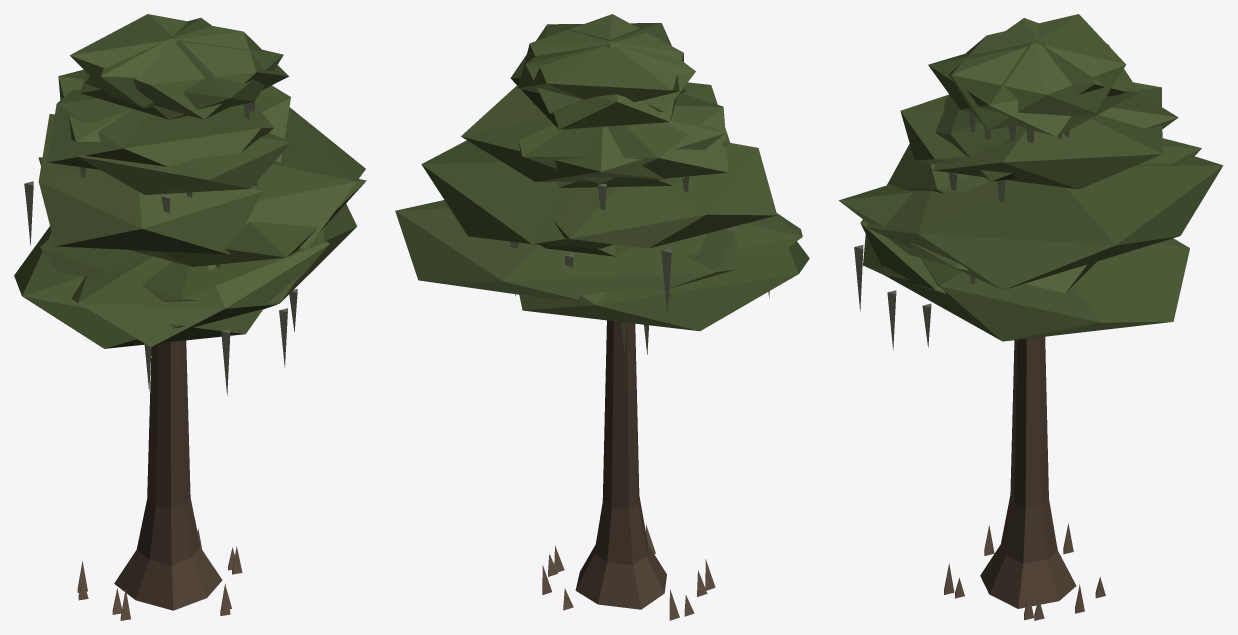
The model's file is cypress.glb.
3 views of the same model, side by side, from view 1: azimuth 30°, elevation 25°; view 2: azimuth 150°, elevation 25°; view 3: azimuth 270°, elevation 25° (orthographic).
Visible parts, largest first — view 1: cypress_v1, cypress_v2, cypress_v0; view 2: cypress_v2, cypress_v1, cypress_v0; view 3: cypress_v2, cypress_v1, cypress_v0.
Part boxes in pixels (x1,y1,x2,y2): cypress_v1: (24, 18, 329, 614); cypress_v2: (40, 14, 365, 620); cypress_v0: (14, 40, 366, 609); cypress_v2: (395, 14, 739, 610); cypress_v1: (519, 44, 802, 620); cypress_v0: (510, 23, 809, 616); cypress_v2: (865, 14, 1223, 620); cypress_v1: (854, 18, 1201, 620); cypress_v0: (838, 43, 1139, 613).
Size of the model in its own units: 10.19 by 15.01 by 9.58.
